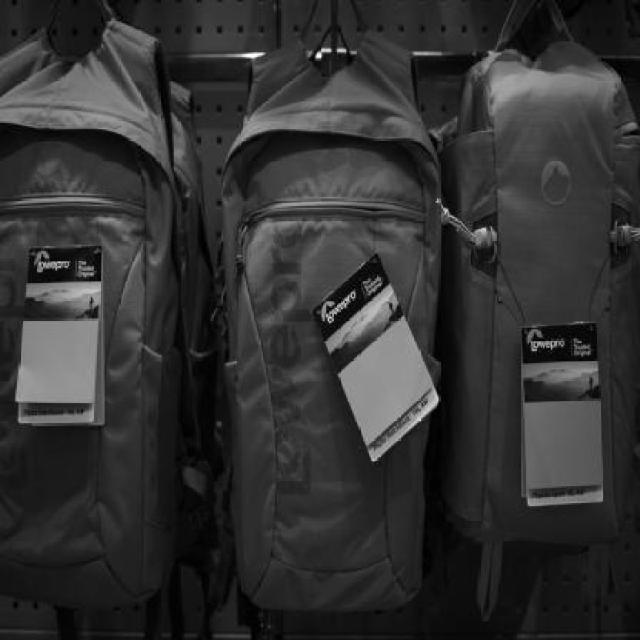backpack: (216, 34, 438, 615), (0, 20, 202, 612), (438, 26, 640, 577)
